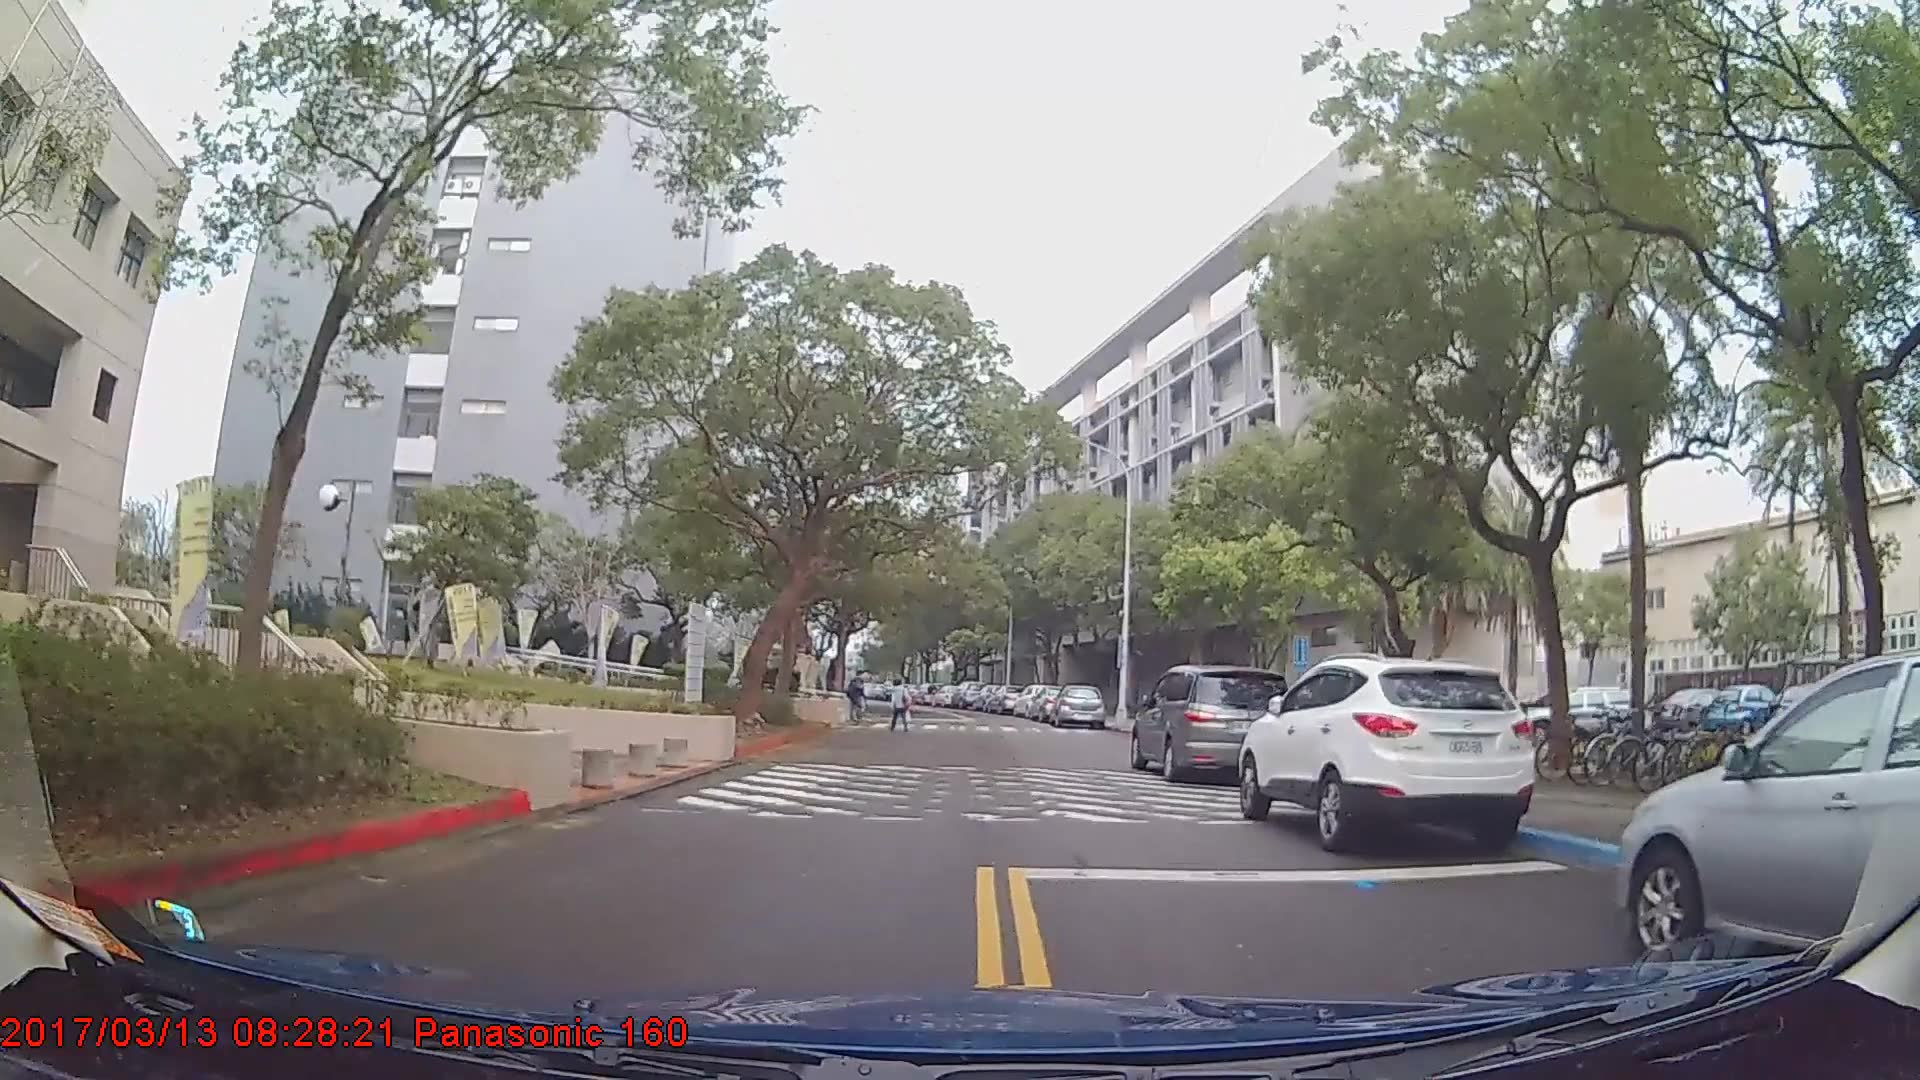pedestrian: (883, 679, 911, 736), (848, 673, 870, 725)
vehicle: (1616, 647, 1920, 985), (1237, 655, 1539, 853), (1128, 663, 1297, 783), (1499, 684, 1631, 747), (1651, 686, 1737, 733), (1706, 682, 1777, 733), (1052, 680, 1106, 731), (947, 679, 983, 709)
